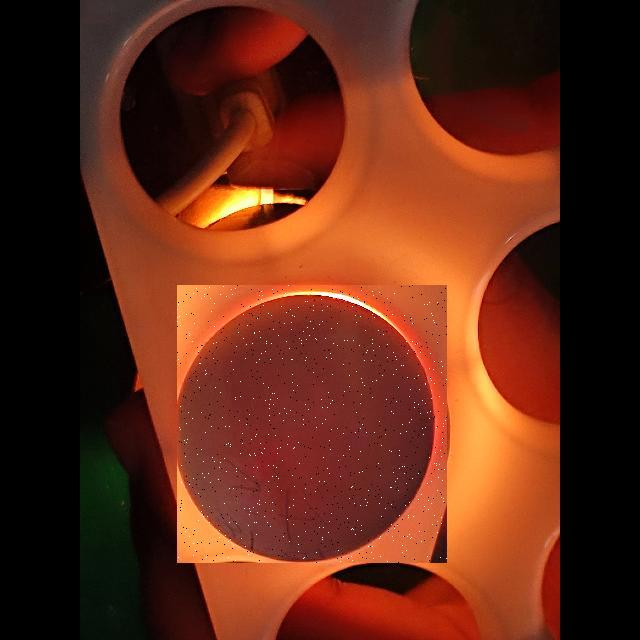Fertile: (177, 285, 447, 563)
